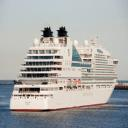cruises: (10, 27, 119, 114)
